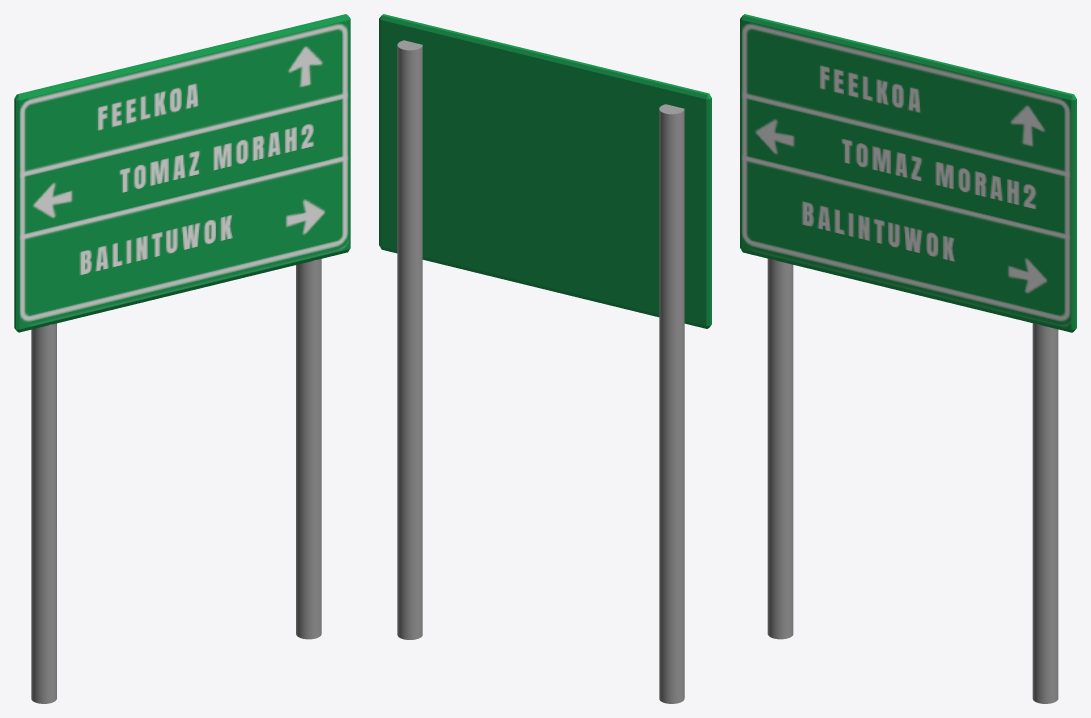
The model's file is STACK(2).fbx.
3 renders of one model, left to right at view 1: azimuth 30°, elevation 25°; view 2: azimuth 150°, elevation 25°; view 3: azimuth 330°, elevation 25°, orthographic.
Visible parts, largest first — view 1: pCylinder24; view 2: pCylinder24; view 3: pCylinder24.
Boxes of the visible parts, left/top/right/bottom form: pCylinder24: left=14, top=14, right=350, bottom=703; pCylinder24: left=379, top=14, right=711, bottom=703; pCylinder24: left=740, top=14, right=1076, bottom=703.
Size of the model in its own units: 4.77 by 8.37 by 0.3373.
2 materials, 1 textured.
